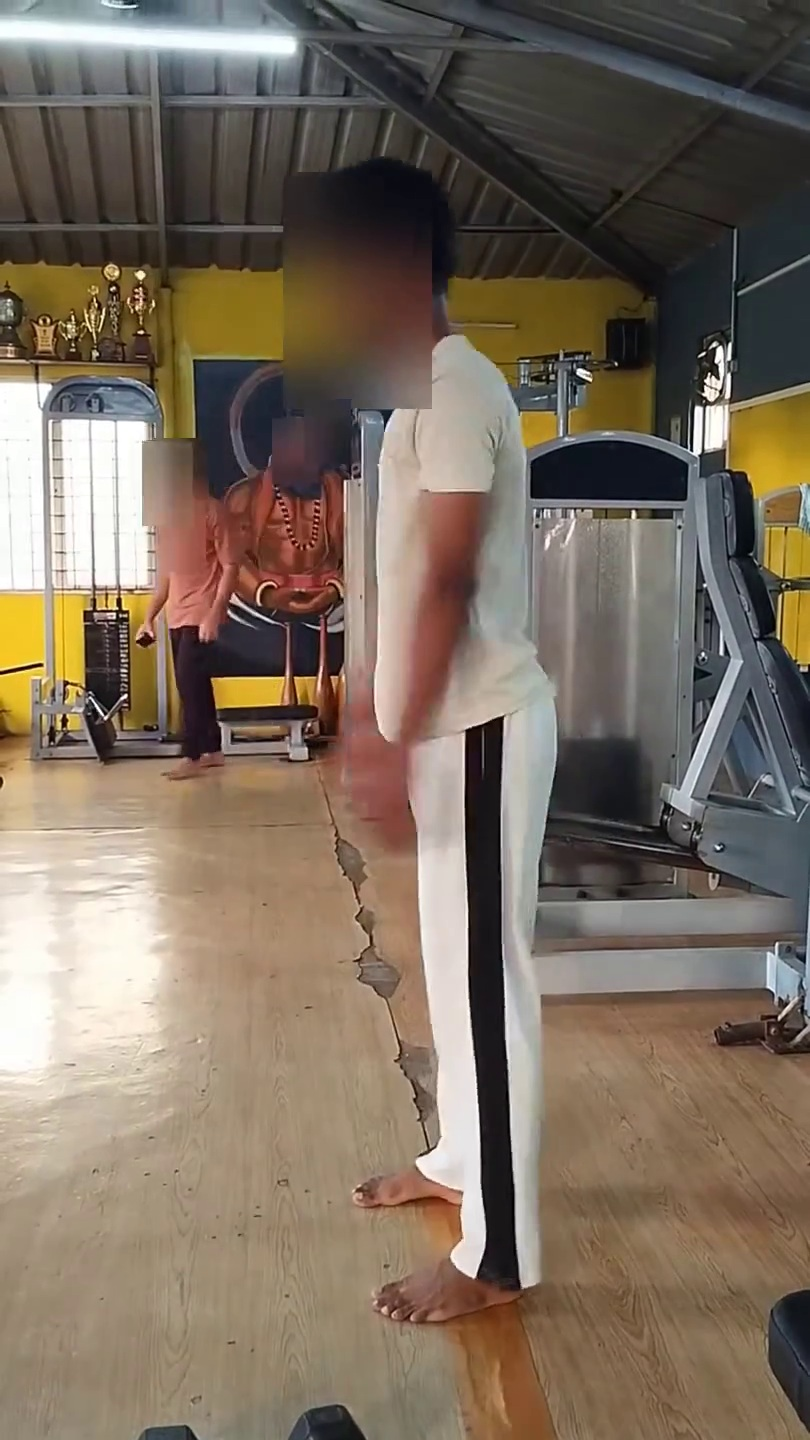squat_incorrect: (232, 171, 601, 1307)
